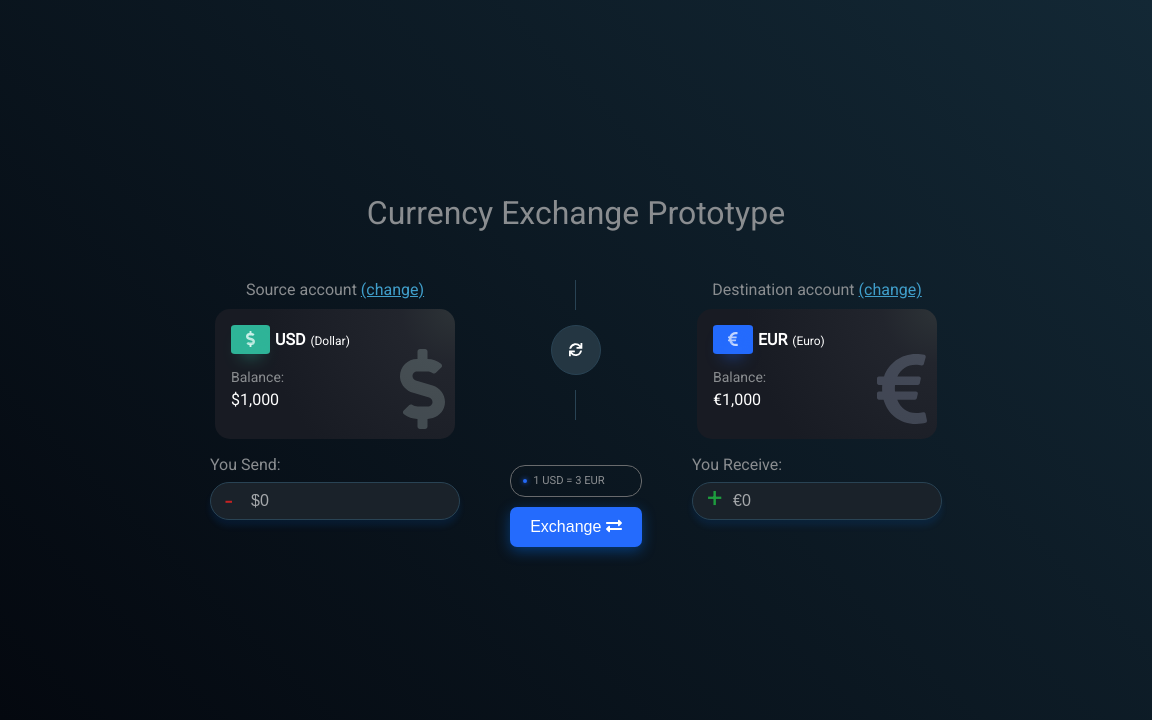
calculate receive amount by enter send amount
Check: the text "1 USD = 3 EUR" is shown, box x1=533 y1=474 x2=605 y2=487
Type "10" into the field labelled "You Send:" at (335, 501), box x1=210 y1=482 x2=460 y2=520
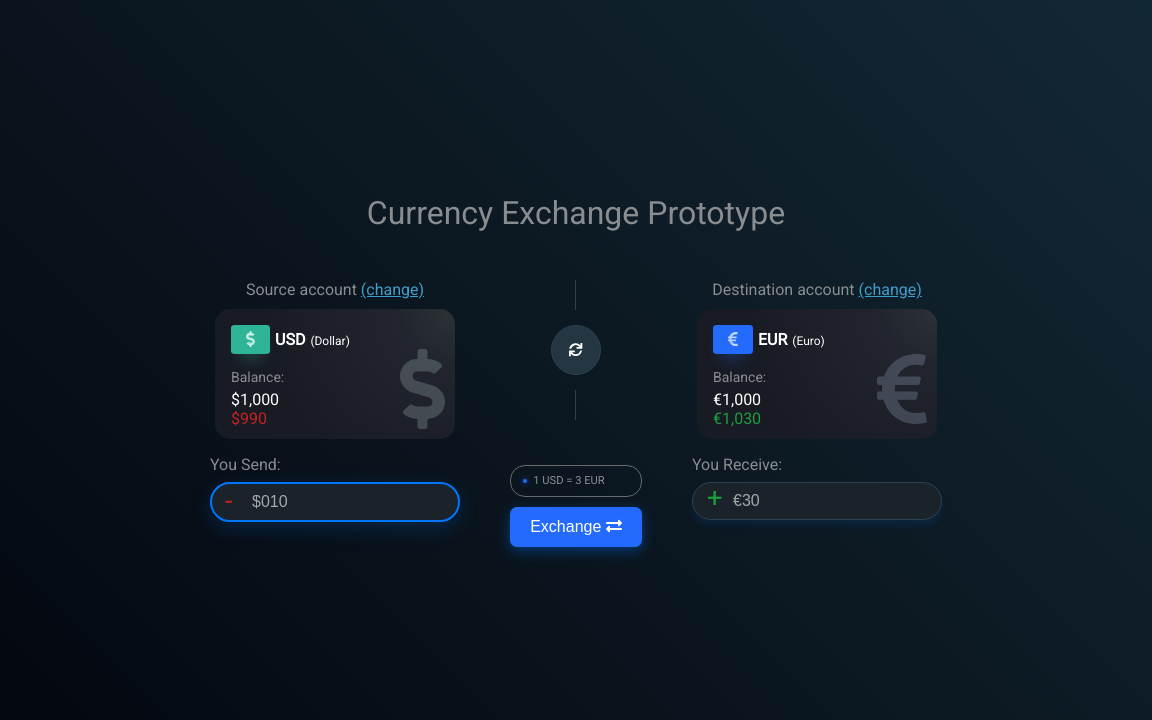
Check: the field labelled "You Receive:" holds "€30", box x1=692 y1=482 x2=942 y2=520
